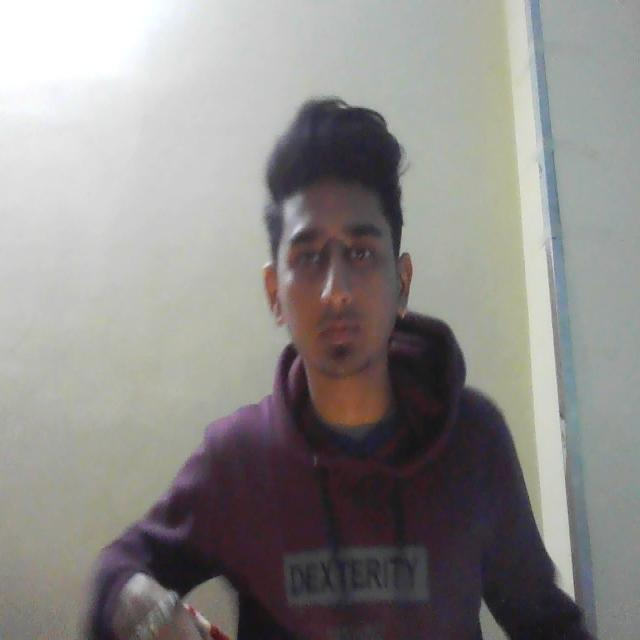real: (271, 116, 423, 403)
